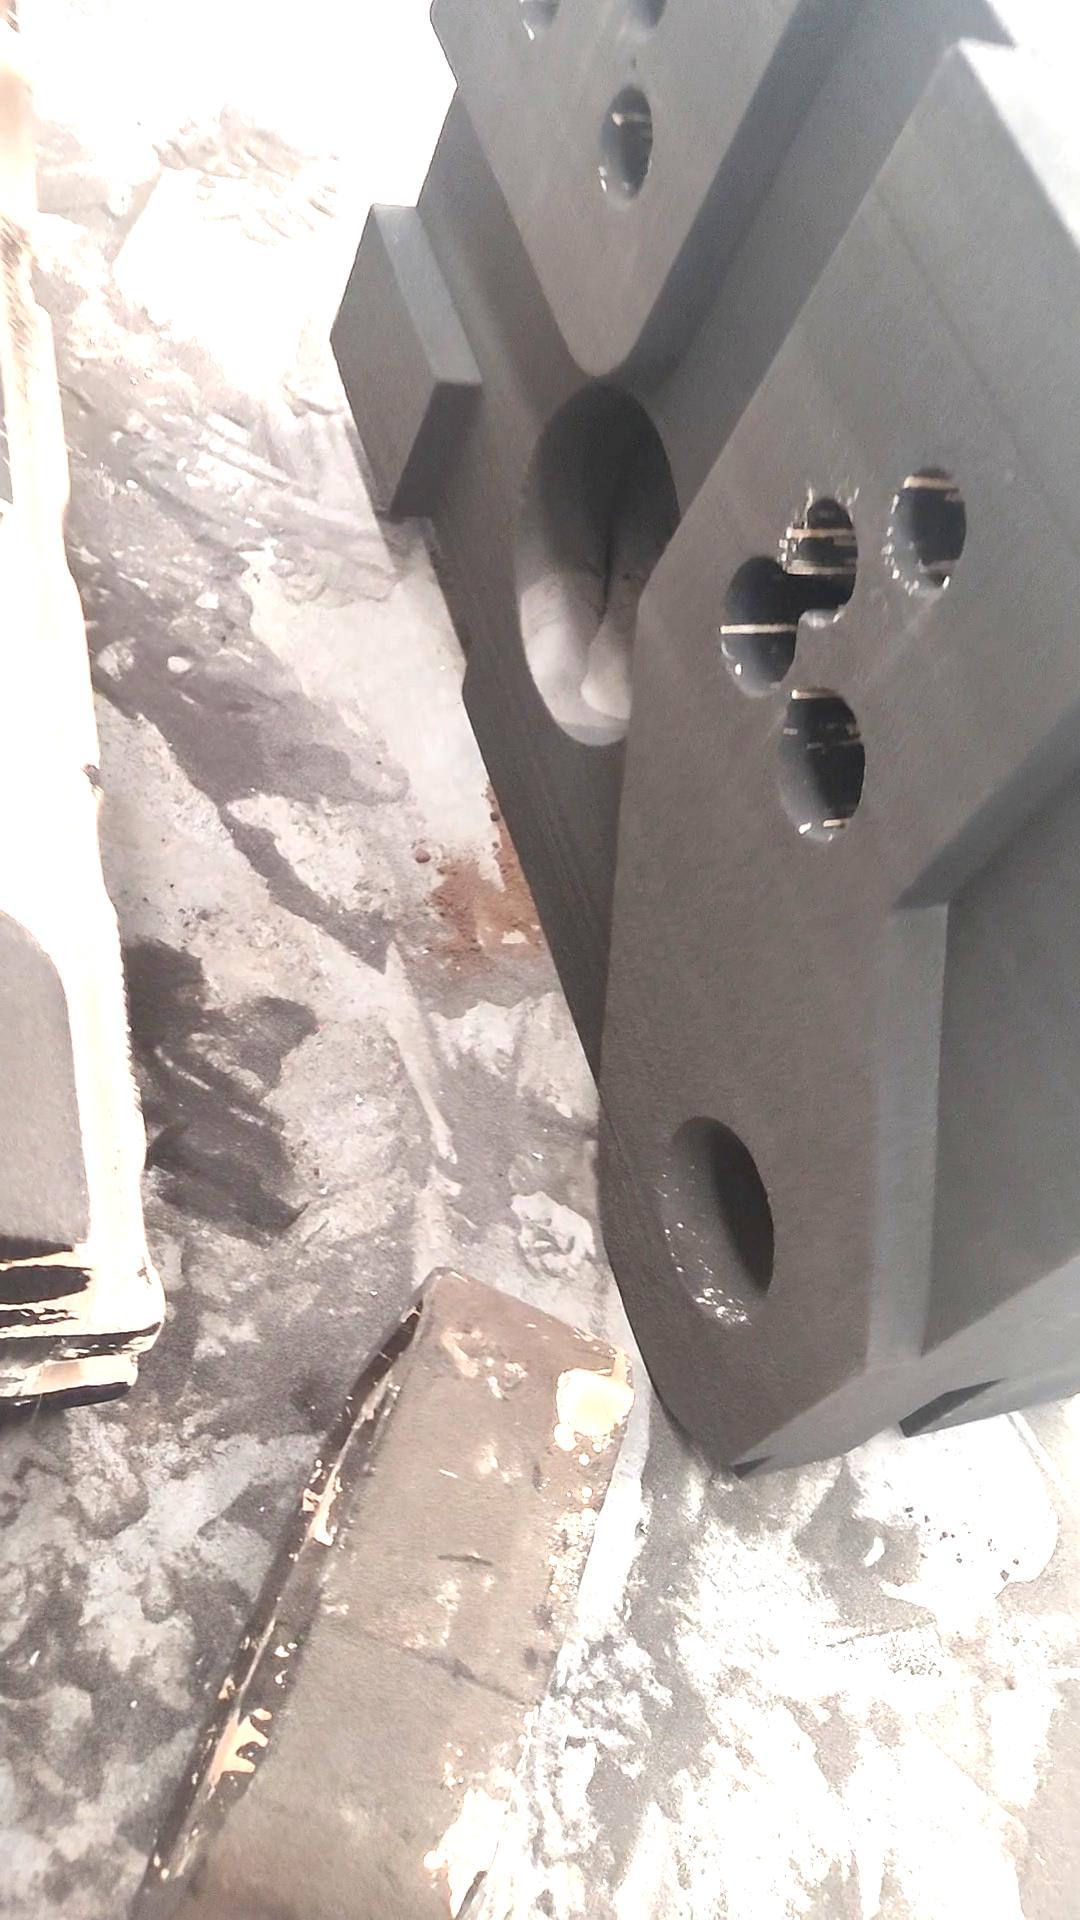pouring hole: (657, 1116, 775, 1325)
